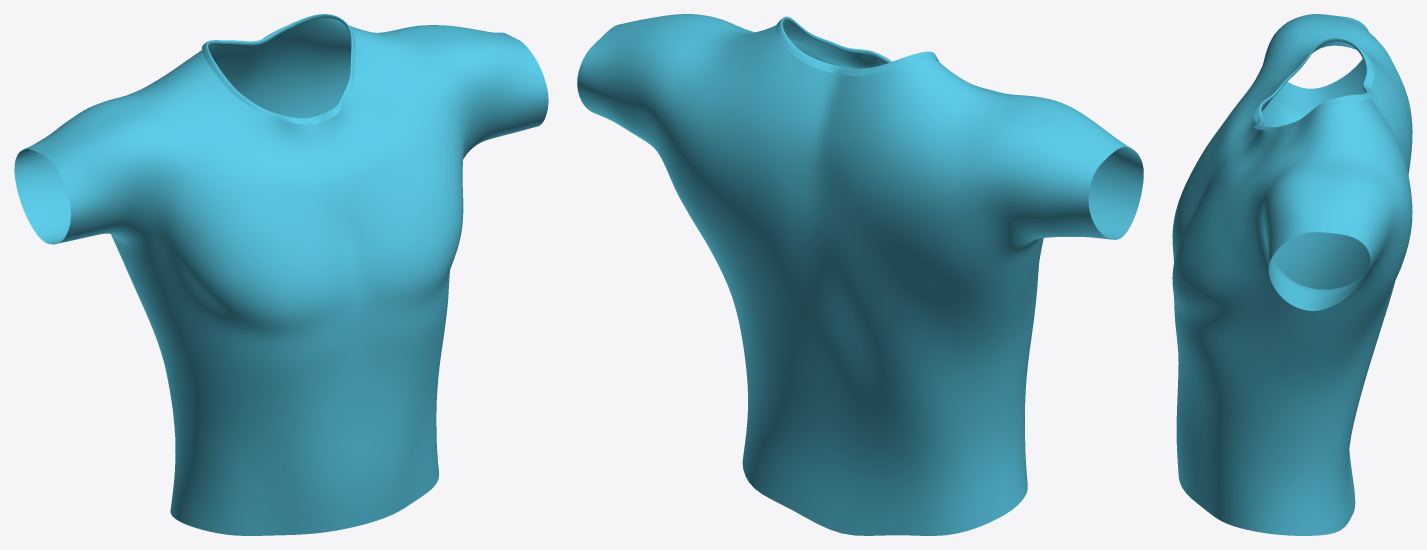
Rendered from Shirt.fbx.
3 views of the same model, side by side, from view 1: azimuth 30°, elevation 25°; view 2: azimuth 150°, elevation 25°; view 3: azimuth 270°, elevation 25° (orthographic). The views are drawn at different scales.
Parts seen in each view (by area): view 1: Shirt 1; view 2: Shirt 1; view 3: Shirt 1.
Part boxes in pixels (bbox=[...]): Shirt 1: bbox=[14, 14, 548, 535]; Shirt 1: bbox=[577, 14, 1143, 535]; Shirt 1: bbox=[1172, 14, 1412, 535].
Bounding box in the file's own units: 67.15 × 61.07 × 30.53.
